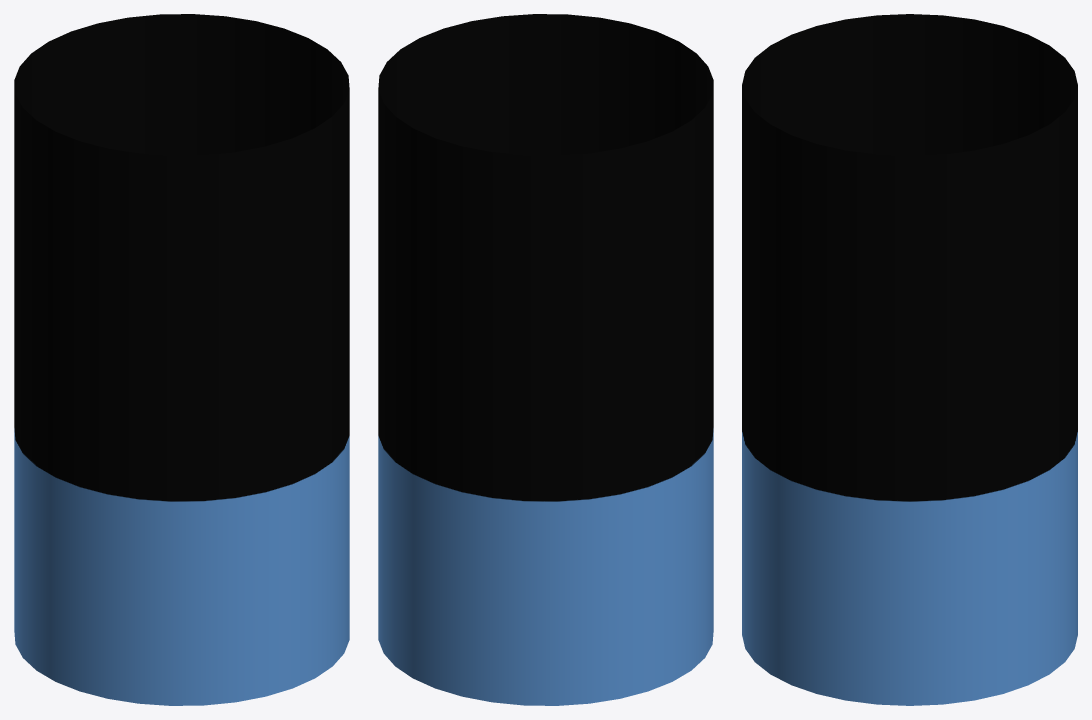
The model's file is goalCylinder.fbx.
The picture shows the model from 3 angles, left to right: view 1: azimuth 30°, elevation 25°; view 2: azimuth 150°, elevation 25°; view 3: azimuth 270°, elevation 25°; orthographic projection.
Parts seen in each view (by area): view 1: Cylinder; view 2: Cylinder; view 3: Cylinder.
Boxes of the visible parts, x1,y1,x2,y2 form: Cylinder: (14, 14, 349, 705); Cylinder: (378, 14, 713, 705); Cylinder: (742, 14, 1077, 705).
Bounding box in the file's own units: 2.35 × 4.25 × 2.35.
